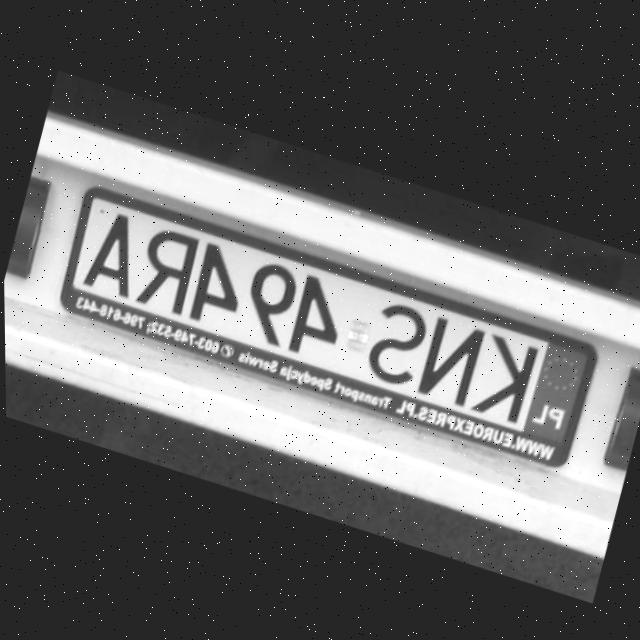license-plates: (59, 188, 595, 466)
